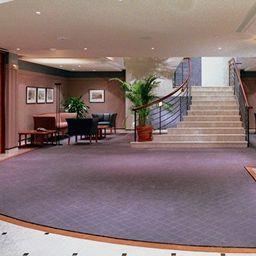Escaleras: (134, 63, 241, 147)
Matera: (120, 79, 157, 140)
